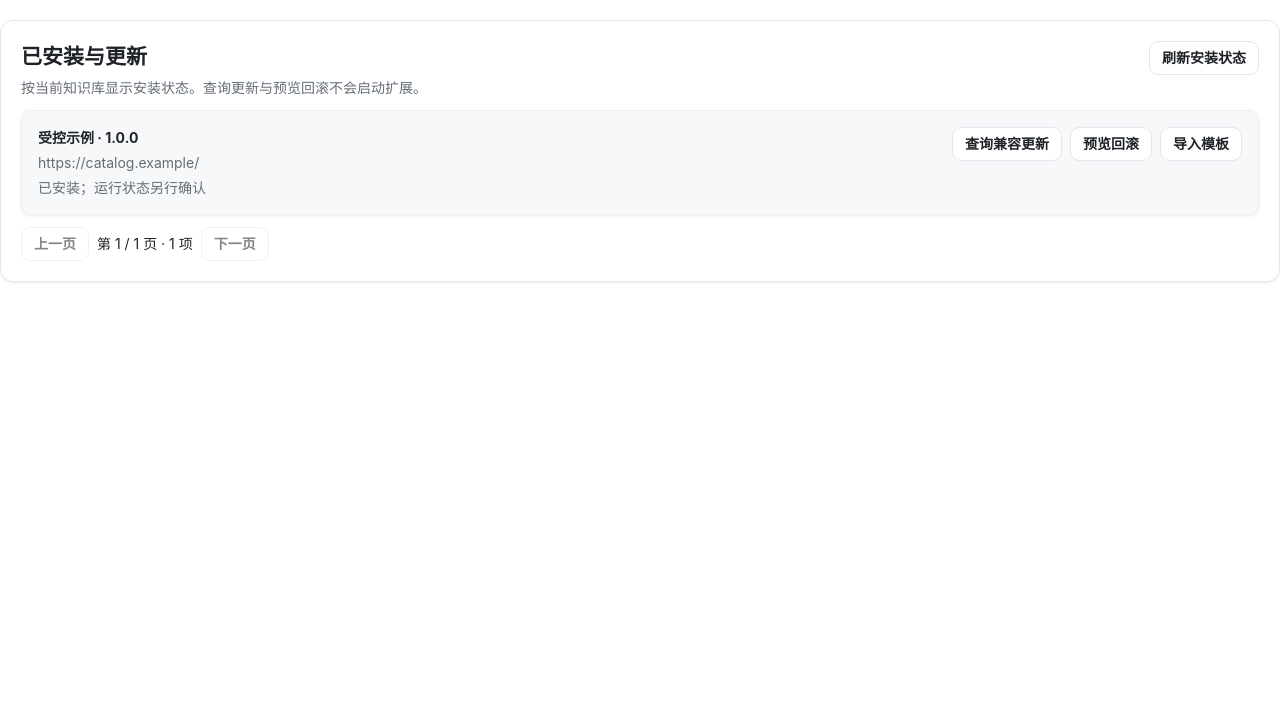
Scenario: opens template targets without implicitly importing or running anything
Click the button "导入模板" at {"x": 1201, "y": 144}, box [1160, 126, 1242, 160]
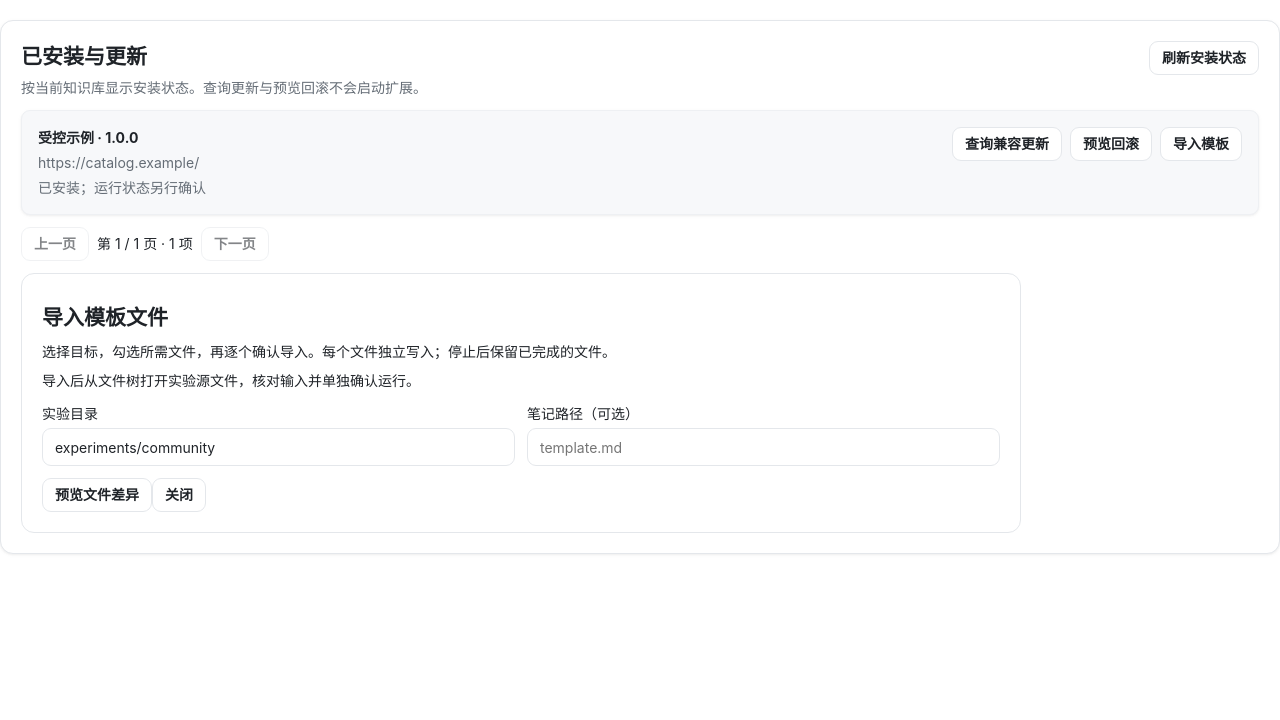
Expected: the text "逐个确认导入" is shown, [42, 343, 616, 360]
